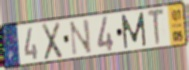4: (96, 14, 116, 54), (24, 26, 39, 61)
M: (120, 11, 148, 50)
N: (68, 17, 93, 57)
T: (147, 7, 166, 48)
X: (41, 21, 64, 62)
